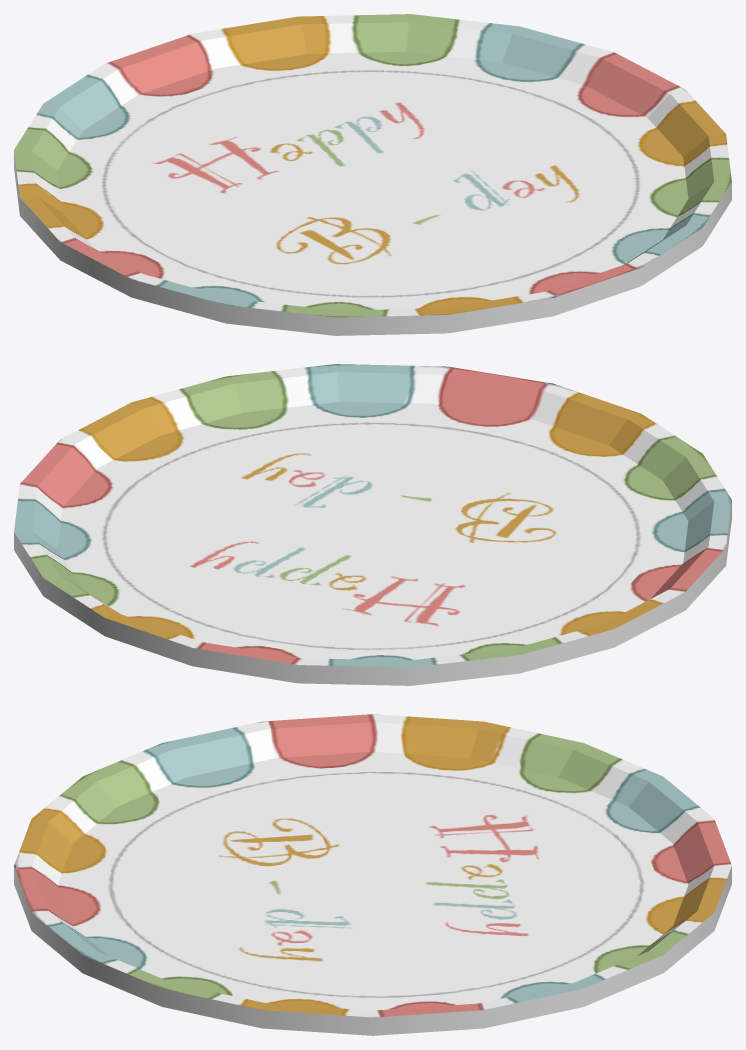
Rendered from Plato_Chiquito 1.fbx.
The picture shows the model from 3 angles, top to bottom: view 1: azimuth 30°, elevation 25°; view 2: azimuth 150°, elevation 25°; view 3: azimuth 270°, elevation 25°; orthographic projection.
Parts seen in each view (by area): view 1: PlatoChiquito; view 2: PlatoChiquito; view 3: PlatoChiquito.
Part boxes in pixels (box(x1,y1,x2,y2)): PlatoChiquito: box(14, 14, 731, 335); PlatoChiquito: box(14, 364, 731, 685); PlatoChiquito: box(14, 714, 731, 1035).
Bounding box in the file's own units: 22.42 × 1.26 × 22.42.
